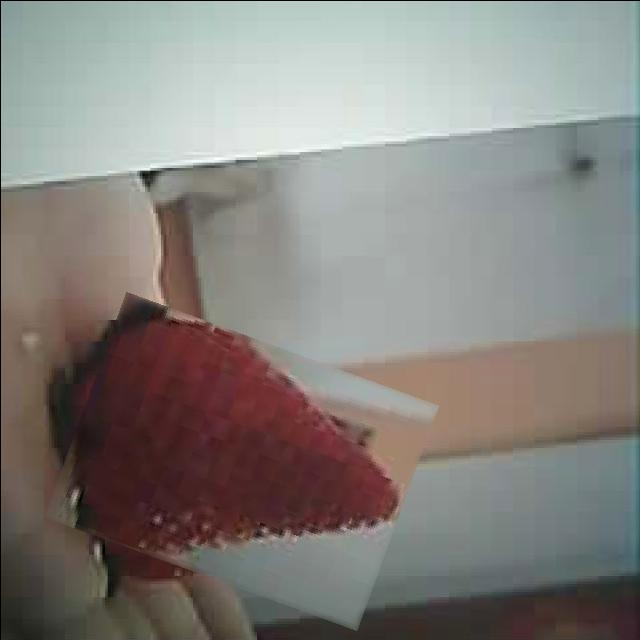strawberry: (59, 315, 423, 605)
